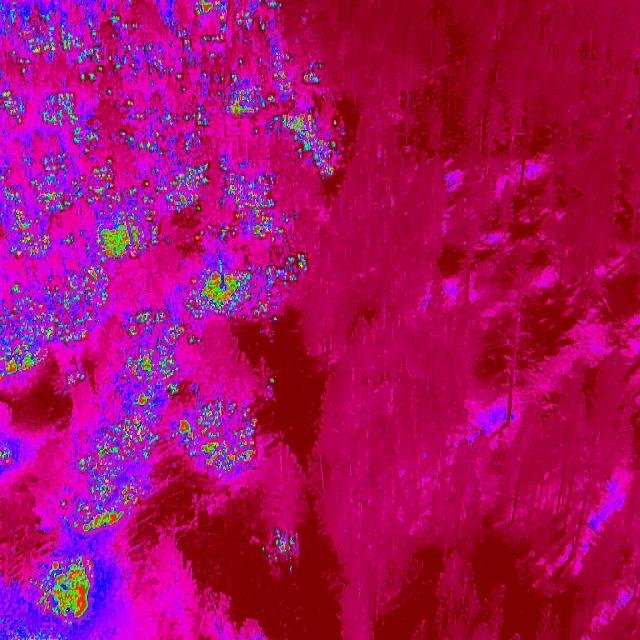fire: (0, 0, 344, 192), (178, 248, 310, 348), (0, 266, 110, 380), (0, 188, 160, 264), (214, 157, 300, 254), (170, 394, 264, 476), (79, 392, 161, 471), (118, 306, 192, 393), (36, 556, 100, 624), (162, 164, 216, 217), (88, 470, 144, 510), (70, 506, 127, 540), (264, 528, 299, 568), (0, 437, 16, 474)
